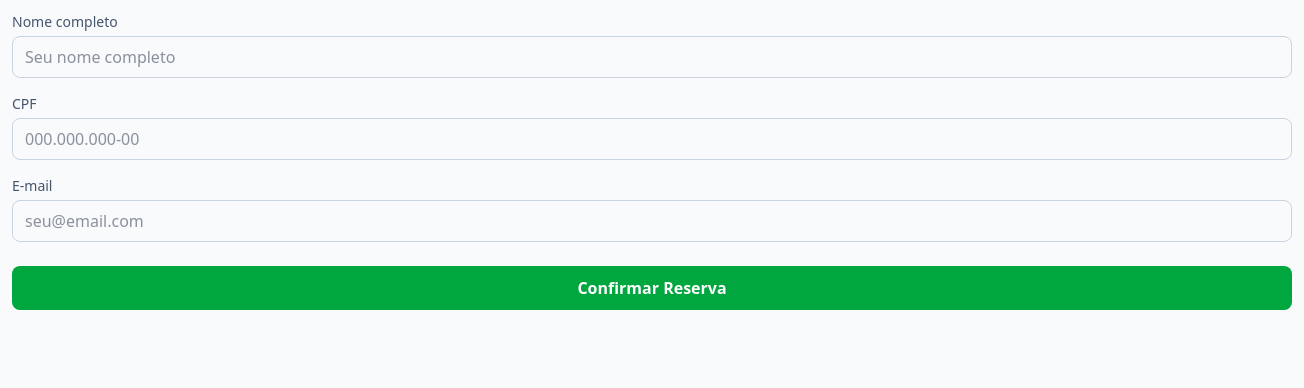
it: PassengerForm › exibe erros com campos vazios
Click the button "Confirmar Reserva". click: [652, 288]
box: x1=12 y1=266 x2=1292 y2=310
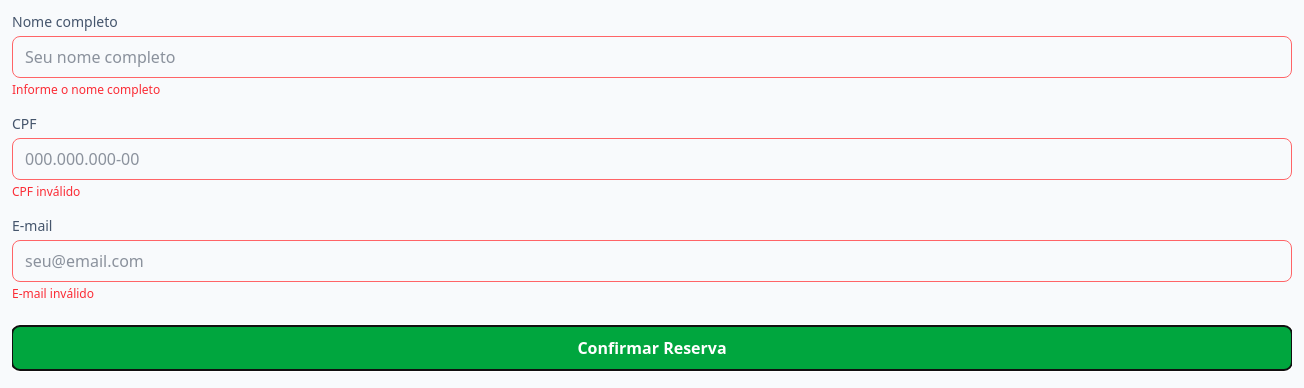
Expected: the text "Informe o nome completo" is shown, x1=12 y1=81 x2=160 y2=98
Expected: the text "CPF inválido" is shown, x1=12 y1=183 x2=80 y2=200
Expected: the text "E-mail inválido" is shown, x1=12 y1=285 x2=94 y2=302
